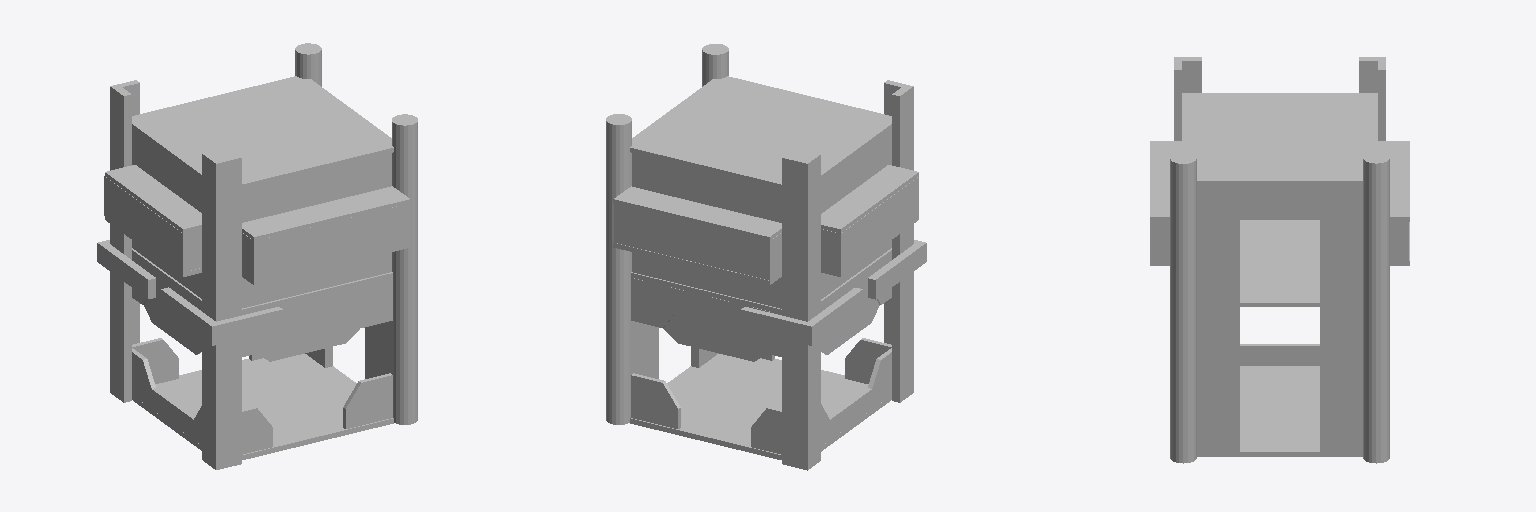
File: Vending_Small_building_01.obj
The picture shows the model from 3 angles: view 1: azimuth 30°, elevation 25°; view 2: azimuth 150°, elevation 25°; view 3: azimuth 270°, elevation 25°; orthographic projection.
Visible parts, largest first — view 1: Vending_Small_building_01; view 2: Vending_Small_building_01; view 3: Vending_Small_building_01.
Part boxes in pixels (x1,y1,x2,y2): Vending_Small_building_01: (97,43,417,469); Vending_Small_building_01: (606,44,926,470); Vending_Small_building_01: (1150,57,1409,463).
Size of the model in its own units: 321 by 419 by 322.